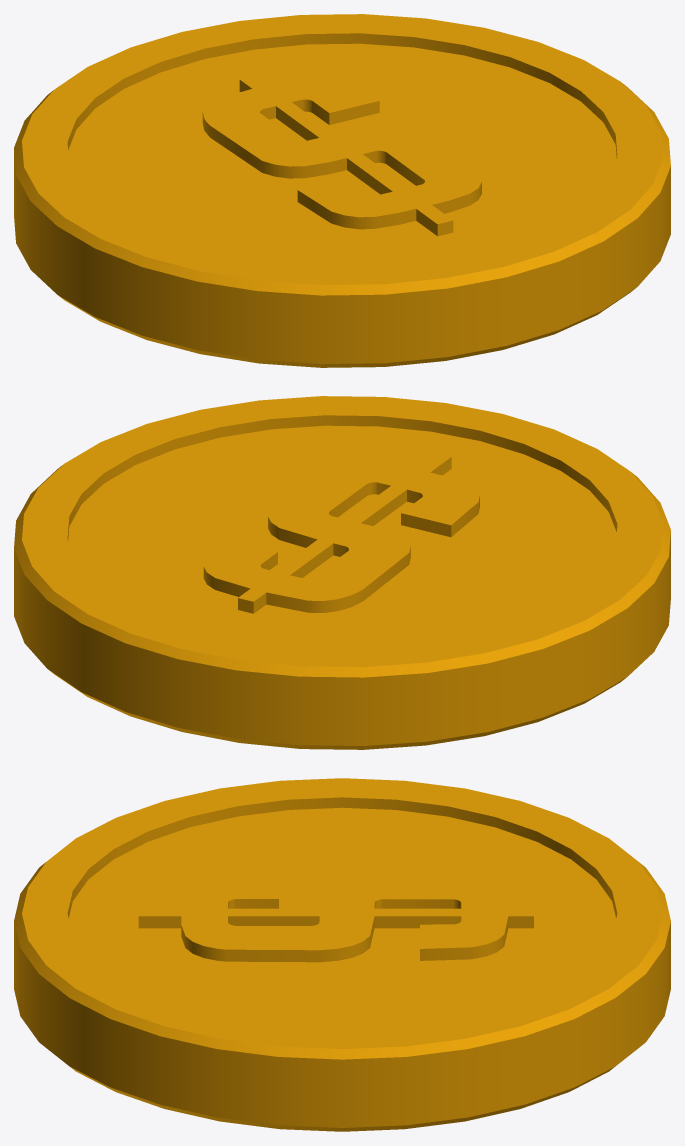
Rendered from Coin.glb.
3 renders of one model, top to bottom at view 1: azimuth 30°, elevation 25°; view 2: azimuth 150°, elevation 25°; view 3: azimuth 270°, elevation 25°, orthographic.
Parts seen in each view (by area): view 1: Coin_new; view 2: Coin_new; view 3: Coin_new.
Boxes of the visible parts, left/top/right/bottom form: Coin_new: left=14, top=14, right=670, bottom=367; Coin_new: left=14, top=396, right=670, bottom=749; Coin_new: left=14, top=778, right=670, bottom=1131.
Bounding box in the file's own units: 1.8 × 0.26 × 1.8.
